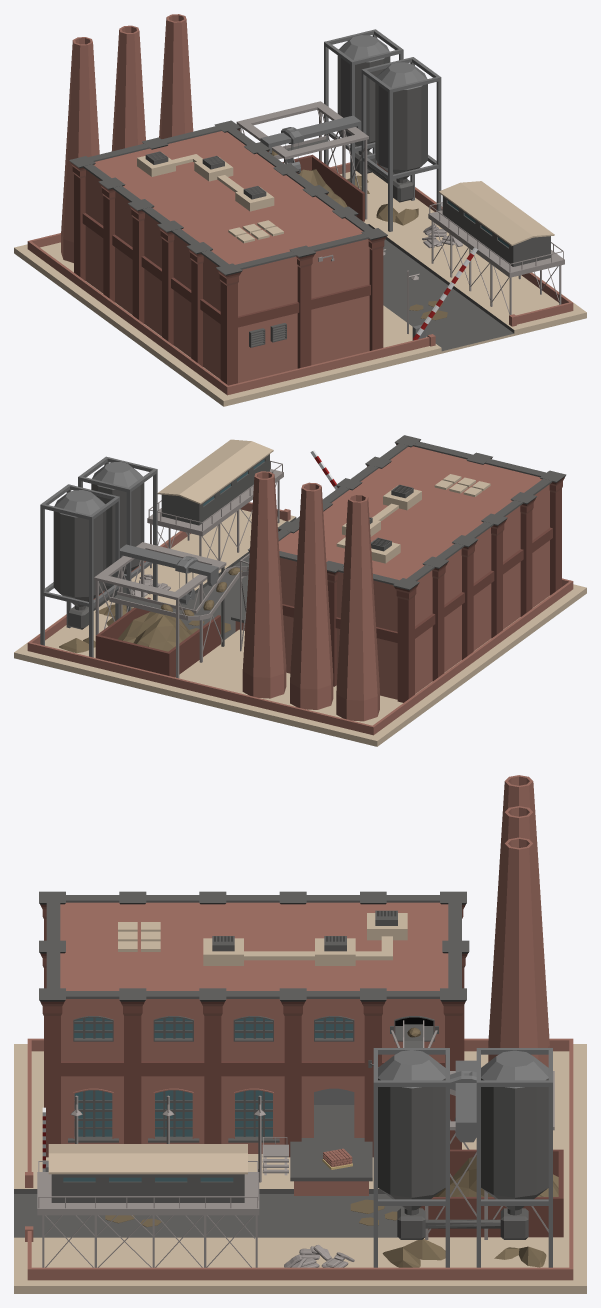
File: BrickFactory.fbx
3 renders of one model, top to bottom at view 1: azimuth 30°, elevation 25°; view 2: azimuth 150°, elevation 25°; view 3: azimuth 270°, elevation 25°, orthographic. The views are drawn at different scales.
Parts seen in each view (by area): view 1: BrickFactory; view 2: BrickFactory; view 3: BrickFactory.
Part boxes in pixels (<box>): BrickFactory: <box>14,14,586,406</box>; BrickFactory: <box>14,435,586,746</box>; BrickFactory: <box>14,775,586,1293</box>.
Size of the model in its own units: 500 by 289 by 500.
